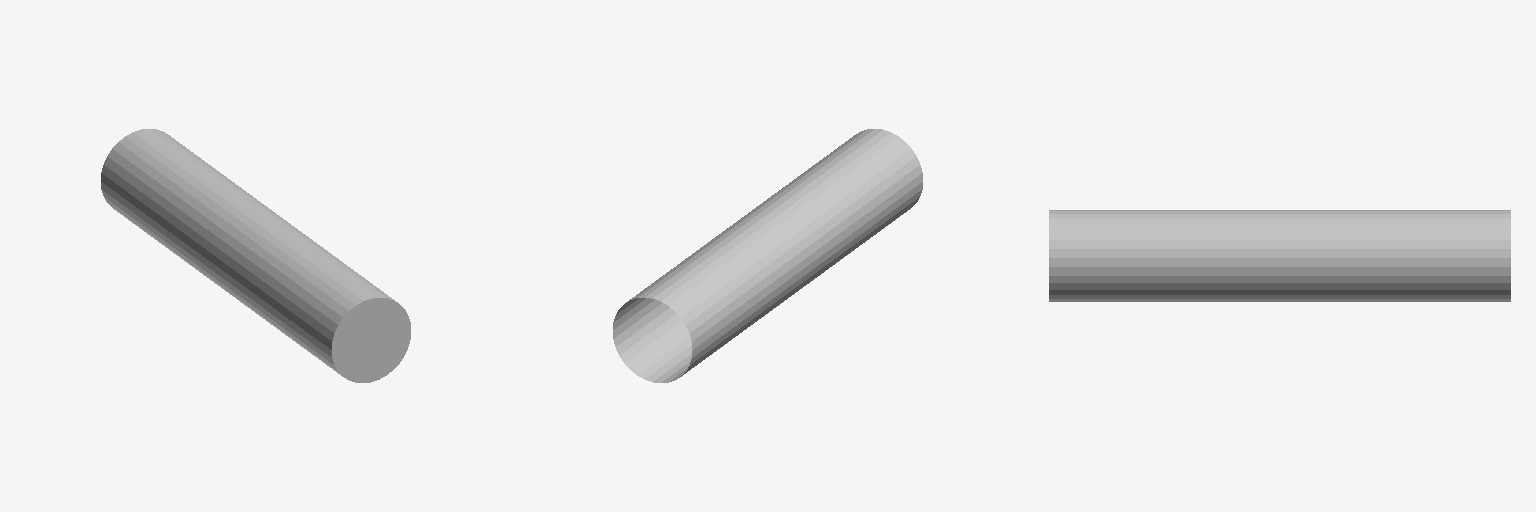
File: peg.obj
3 renders of one model, left to right at view 1: azimuth 30°, elevation 25°; view 2: azimuth 150°, elevation 25°; view 3: azimuth 270°, elevation 25°, orthographic.
Bounding box in the file's own units: 0.2 × 0.2 × 1.